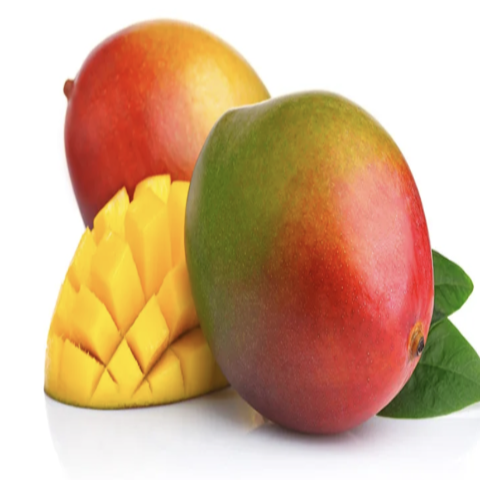mango: (173, 82, 454, 443), (40, 5, 303, 292)
